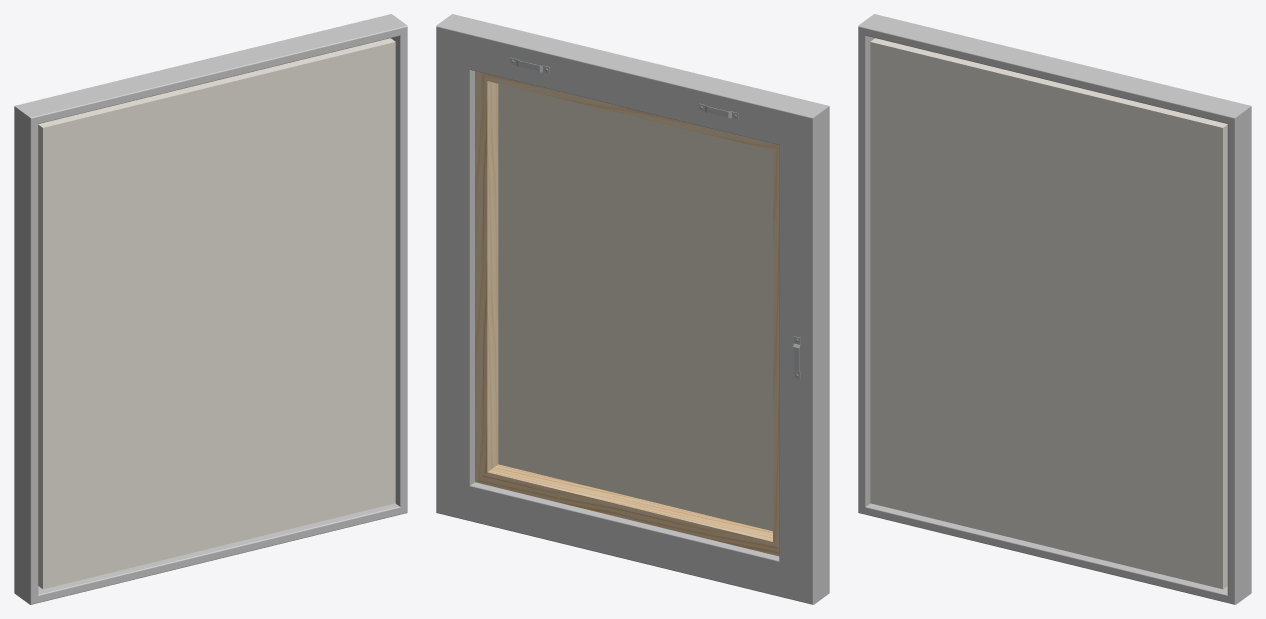
File: decoded-from-delivery.glb
3 views of the same model, side by side, from view 1: azimuth 30°, elevation 25°; view 2: azimuth 150°, elevation 25°; view 3: azimuth 330°, elevation 25° (orthographic).
Visible parts, largest first — view 1: Canvas artwork front, Tray approved profile 0; view 2: Canvas linen reverse, Tray approved profile 0, Stretcher top, Sawtooth hanger 0; view 3: Canvas artwork front, Tray approved profile 0.
Boxes of the visible parts, bbox=[...] form: Canvas artwork front: bbox=[38, 38, 395, 589]; Tray approved profile 0: bbox=[14, 14, 407, 604]; Canvas linen reverse: bbox=[498, 84, 772, 531]; Tray approved profile 0: bbox=[436, 14, 829, 604]; Stretcher top: bbox=[475, 71, 779, 556]; Sawtooth hanger 0: bbox=[510, 57, 800, 379]; Canvas artwork front: bbox=[870, 38, 1227, 589]; Tray approved profile 0: bbox=[858, 14, 1251, 604].
Size of the model in its own units: 0.428 by 0.528 by 0.0354.
7 materials, 2 textured.
